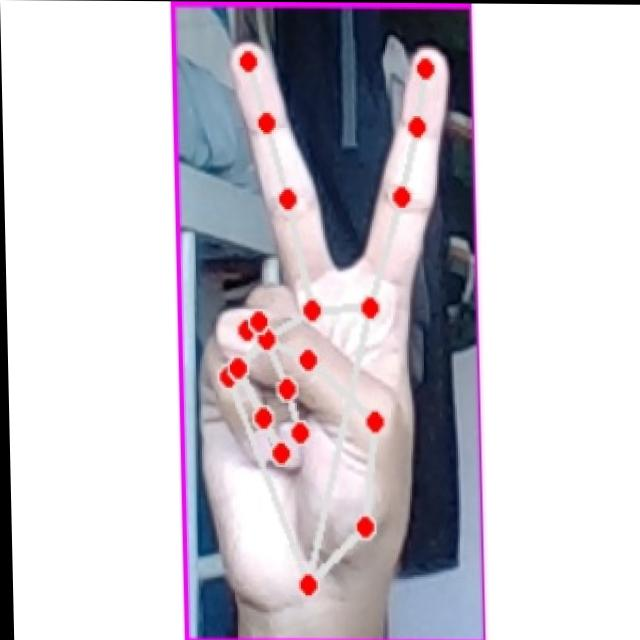V: (191, 35, 461, 610)
